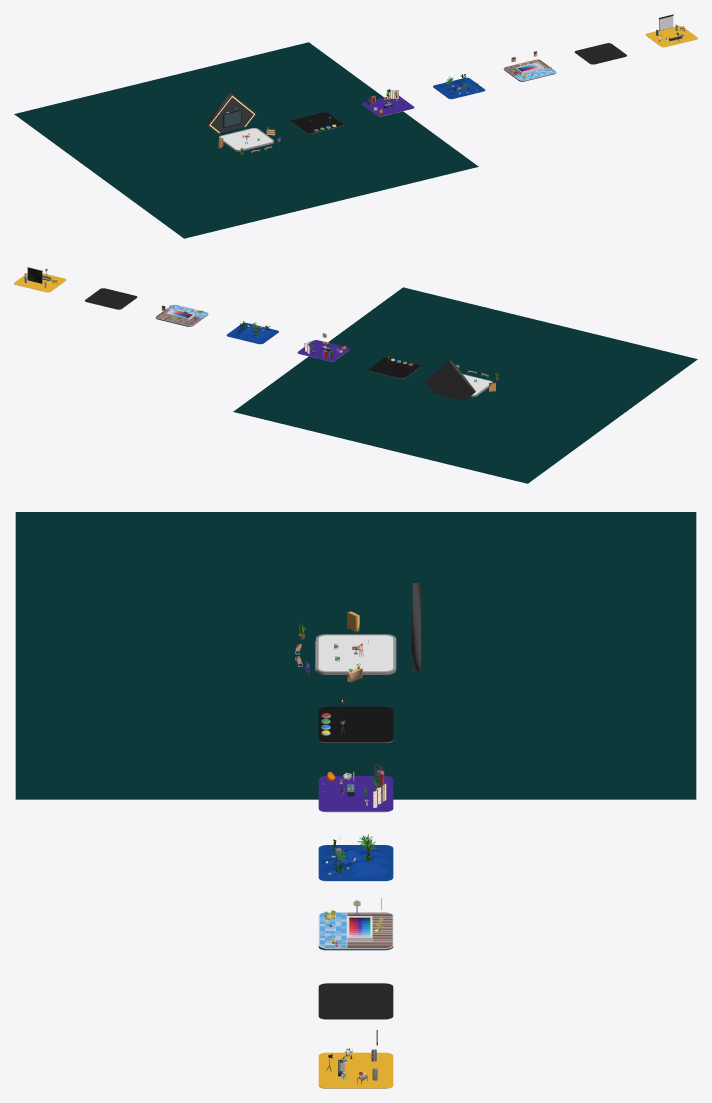
File: office.glb
3 views of the same model, one above another, from view 1: azimuth 30°, elevation 25°; view 2: azimuth 150°, elevation 25°; view 3: azimuth 270°, elevation 25° (orthographic). The views are drawn at different scales.
Parts seen in each view (by area): view 1: Main, Base.005, Base.004, Base.002, Base.003, Base.006, Base, Base.001; view 2: Main, Base.005, Base.004, Base.002, Base.003, Base.006, Base.001; view 3: Main, Base.002, Base.004, Base.005, Base.006, Base, Base.001, Base.003.
Boxes of the visible parts, x1,y1,x2,y2 form: Main: (14,42,478,238); Base.005: (645,14,697,47); Base.004: (362,89,414,116); Base.002: (433,74,485,99); Base.003: (503,51,556,81); Base.006: (574,43,626,64); Base: (220,128,272,149); Base.001: (291,112,343,133); Main: (233,287,697,483); Base.005: (14,267,66,292); Base.004: (297,333,349,361); Base.002: (226,321,278,344); Base.003: (155,304,208,326); Base.006: (85,288,137,309); Base.001: (368,356,420,378); Main: (15,512,696,799); Base.002: (318,834,393,881); Base.004: (318,771,393,812); Base.005: (318,1030,393,1088); Base.006: (318,983,393,1019); Base: (318,635,393,671); Base.001: (318,698,393,742); Base.003: (318,898,393,950).
Bounding box in the file's own units: 167 × 19.87 × 83.18.
Materials: 8 (4 with a texture image).
